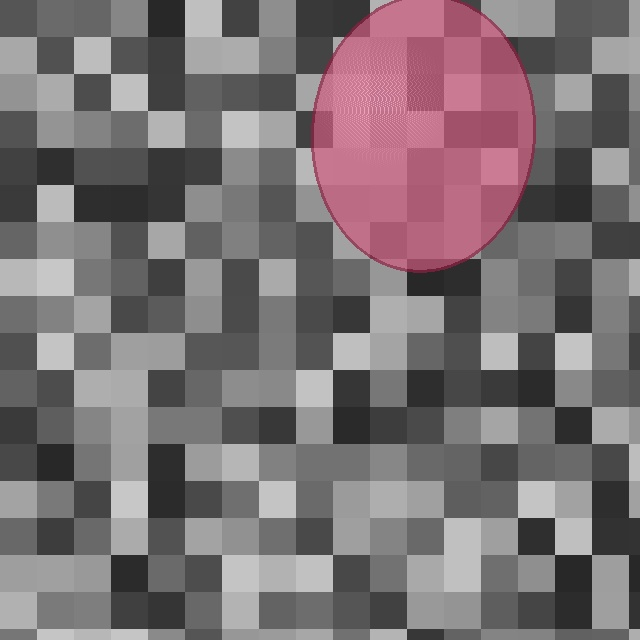lens: (312, 0, 534, 271)
